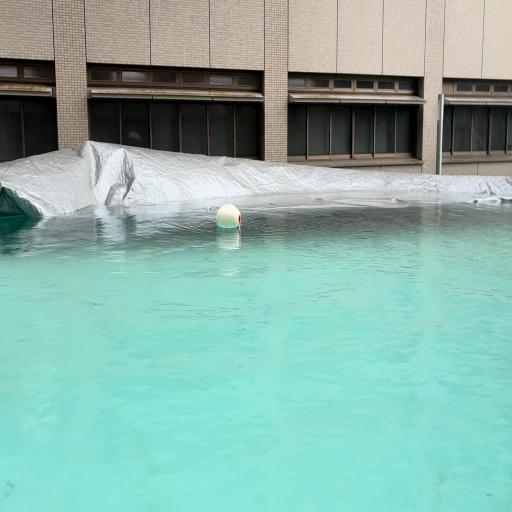white buoy: (216, 204, 241, 229)
